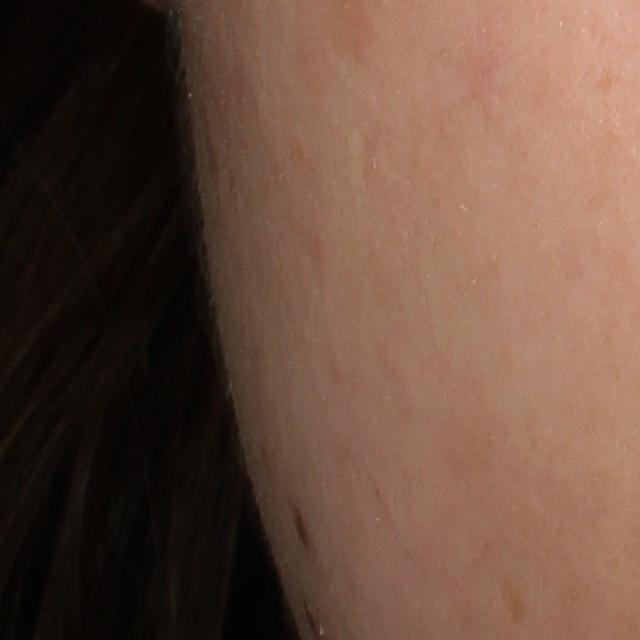atrophic_scar: (352, 126, 376, 196)
nevus: (293, 503, 306, 543)
